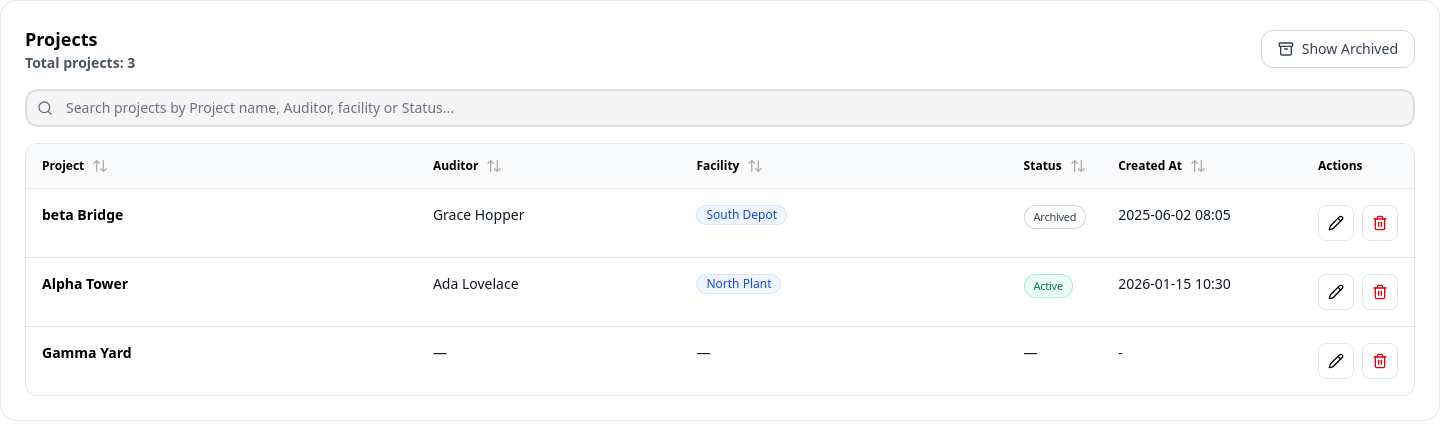
Scenario: ProjectsContent › search › shows the empty message when nothing matches the query
Type "zzz-nope" into the search field labelled "Search projects" at point(720, 108), box [25, 89, 1415, 127]
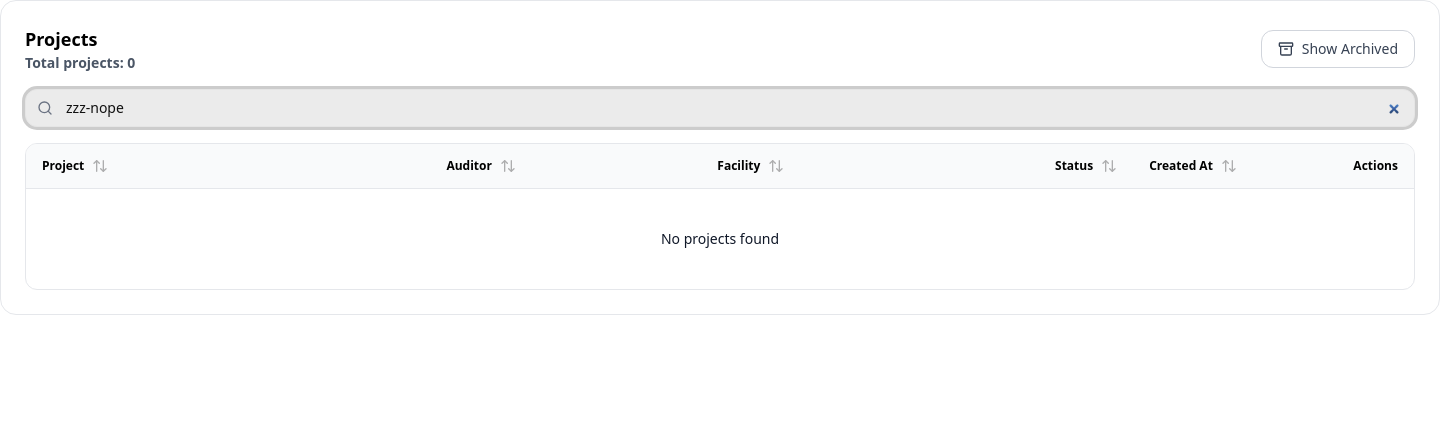
Now the text "No projects found" is shown, box [26, 188, 1414, 288]
Now the text "Total projects: 0" is shown, box [25, 53, 135, 73]
